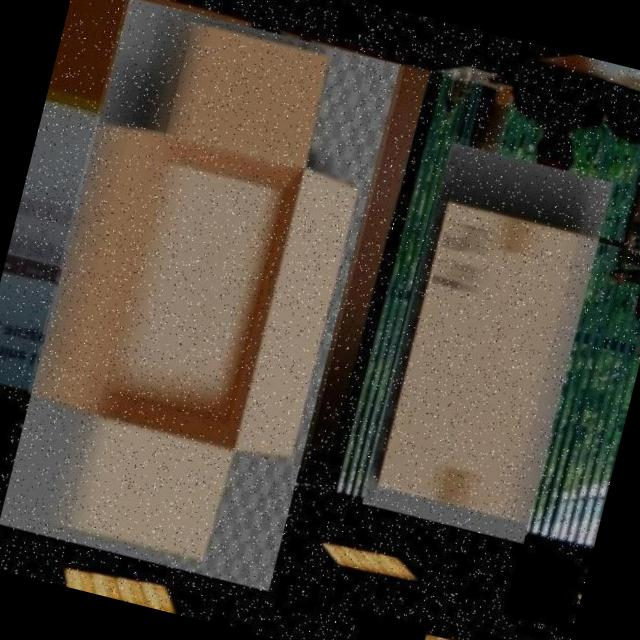box: (0, 0, 407, 598), (358, 135, 618, 550)
